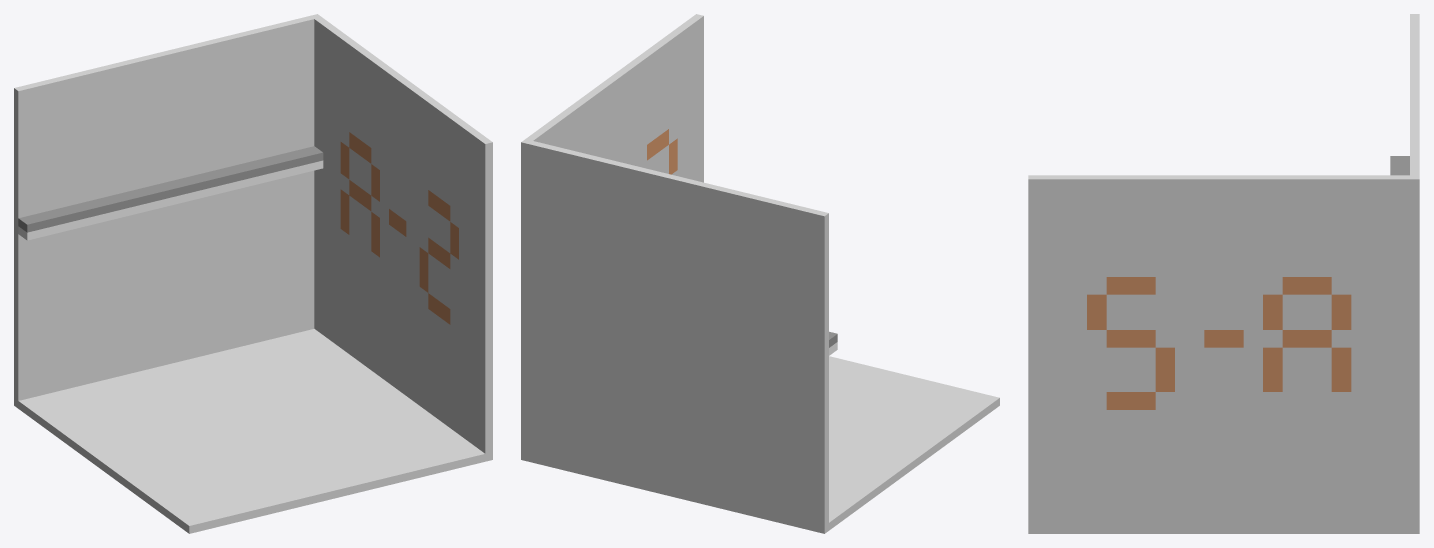
Rendered from Wall_Corner(Ver_1_Number 2).obj.
3 renders of one model, left to right at view 1: azimuth 30°, elevation 25°; view 2: azimuth 150°, elevation 25°; view 3: azimuth 270°, elevation 25°, orthographic. The views are drawn at different scales.
Size of the model in its own units: 4 by 4 by 4.
Materials: 1 (1 with a texture image).
